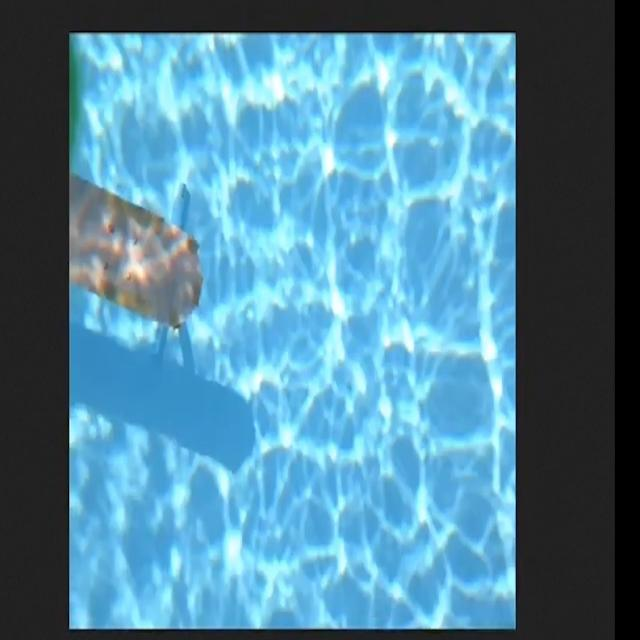Path: (72, 153, 208, 355)
